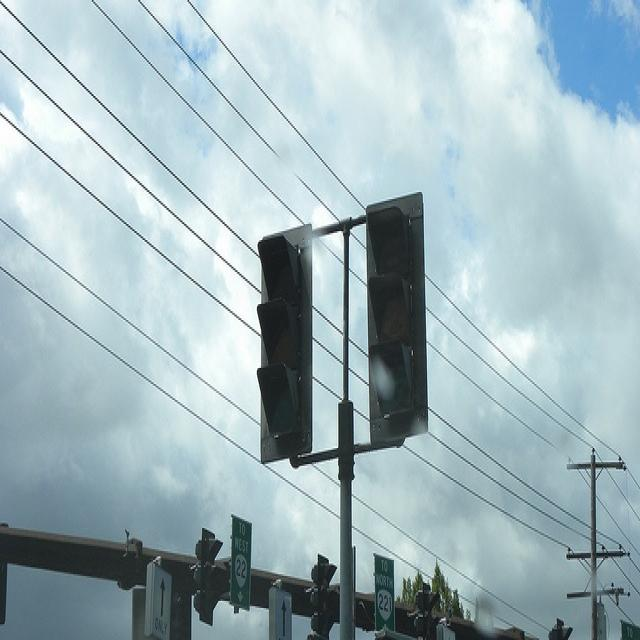pole: (333, 212, 361, 634), (587, 450, 601, 638)
